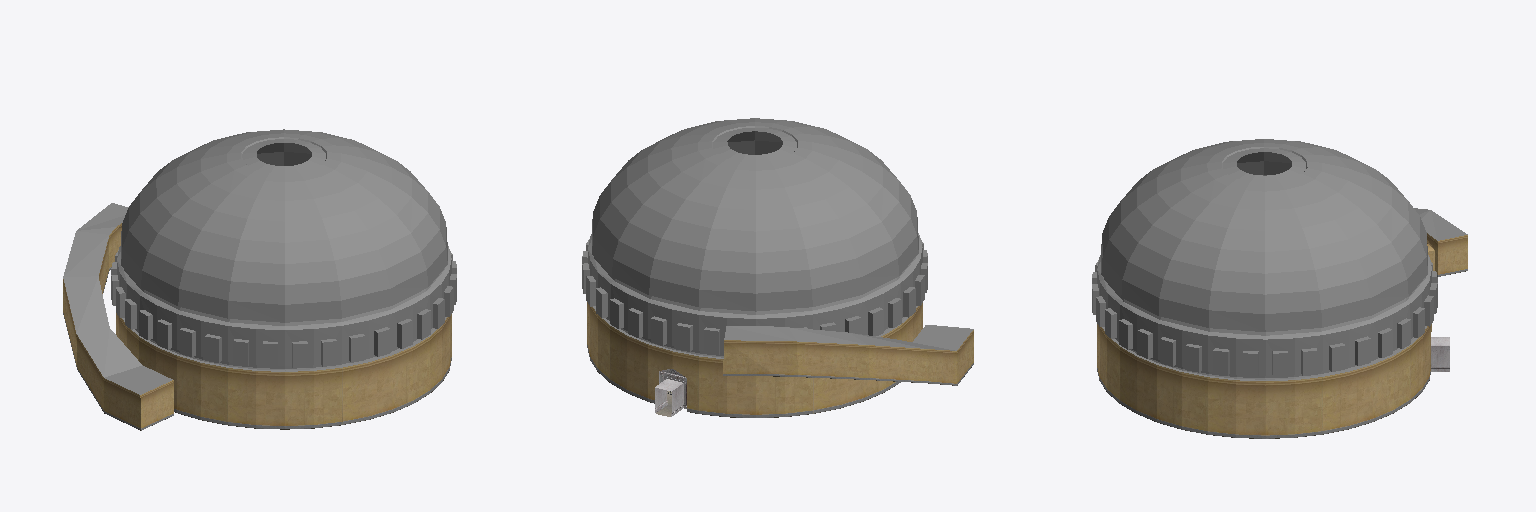
3 views of the same model, side by side, from view 1: azimuth 30°, elevation 25°; view 2: azimuth 150°, elevation 25°; view 3: azimuth 270°, elevation 25° (orthographic).
Parts seen in each view (by area): view 1: Object045, Spawn_Wand_Standart_Segment014, Object050, Object049; view 2: Object045, Spawn_Wand_Standart_Segment014, Object049, Object050, Door010; view 3: Object045, Spawn_Wand_Standart_Segment014, Object049, Object050, Door010.
Part boxes in pixels (x1,y1,x2,y2): Object045: (111, 129, 456, 371); Spawn_Wand_Standart_Segment014: (116, 313, 451, 429); Object050: (63, 203, 172, 394); Object049: (63, 223, 173, 430); Object045: (582, 118, 927, 358); Spawn_Wand_Standart_Segment014: (587, 302, 922, 417); Object049: (723, 330, 973, 385); Object050: (724, 325, 973, 350); Door010: (655, 369, 686, 416); Object045: (1092, 139, 1437, 380); Spawn_Wand_Standart_Segment014: (1097, 324, 1431, 438); Object049: (1427, 233, 1467, 276); Object050: (1414, 208, 1467, 240); Door010: (1431, 337, 1449, 371).
Bounding box in the file's own units: 38.09 × 21.81 × 36.45.
6 materials, 3 textured.